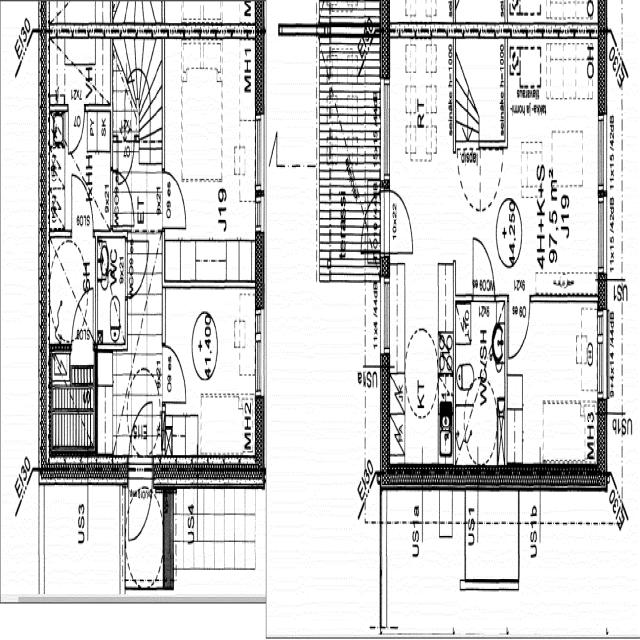door: (385, 182, 416, 257), (126, 459, 151, 545), (478, 141, 504, 212), (128, 396, 154, 462), (162, 339, 188, 404), (162, 167, 188, 230), (471, 230, 495, 295), (507, 292, 530, 359), (457, 145, 480, 211), (128, 238, 153, 296), (112, 167, 134, 224), (67, 103, 85, 153)
window: (380, 72, 392, 186), (378, 270, 392, 364), (253, 302, 265, 401), (597, 301, 608, 401), (252, 105, 264, 192), (596, 107, 607, 192), (597, 191, 607, 273)
zone: (504, 35, 602, 300), (164, 30, 258, 285), (164, 279, 258, 462), (508, 298, 600, 467), (388, 31, 455, 259), (383, 476, 464, 635), (454, 295, 506, 462), (47, 106, 112, 237), (456, 34, 506, 144), (46, 234, 96, 344), (465, 486, 519, 584), (49, 344, 95, 452), (112, 141, 162, 227), (96, 233, 128, 349), (128, 231, 157, 308)
